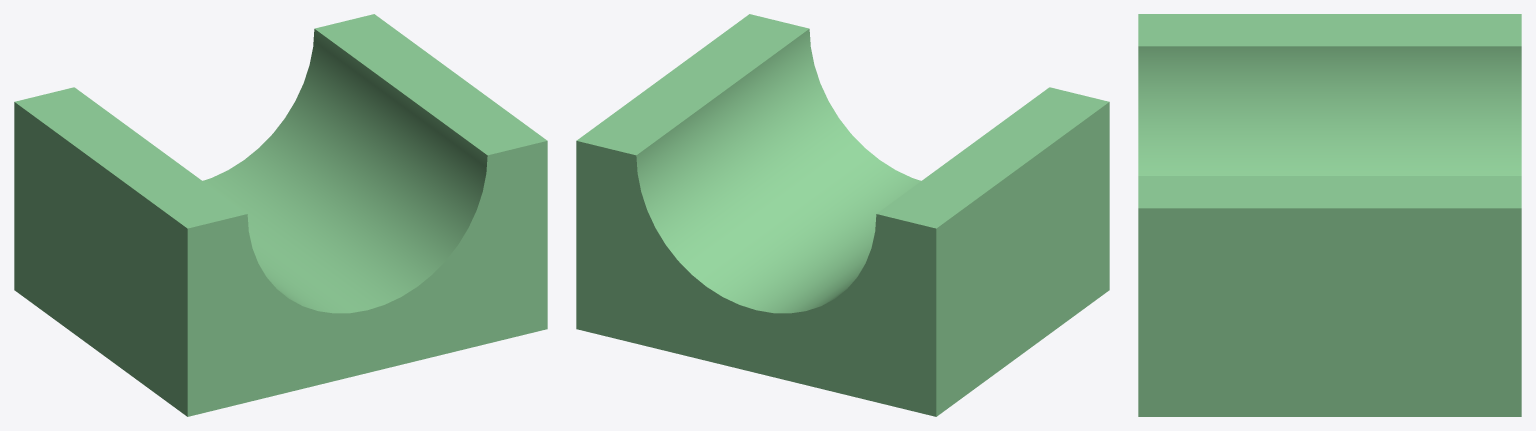
Rendered from anexo_2_-_modelo_03.glb.
3 renders of one model, left to right at view 1: azimuth 30°, elevation 25°; view 2: azimuth 150°, elevation 25°; view 3: azimuth 270°, elevation 25°, orthographic. The views are drawn at different scales.
Parts seen in each view (by area): view 1: Anexo 2 - Modelo 03.SLDPRT; view 2: Anexo 2 - Modelo 03.SLDPRT; view 3: Anexo 2 - Modelo 03.SLDPRT.
Part boxes in pixels (x1,y1,x2,y2): Anexo 2 - Modelo 03.SLDPRT: [14, 14, 547, 416]; Anexo 2 - Modelo 03.SLDPRT: [576, 14, 1109, 416]; Anexo 2 - Modelo 03.SLDPRT: [1138, 14, 1521, 416].
Size of the model in its own units: 0.03 by 0.015 by 0.025.
